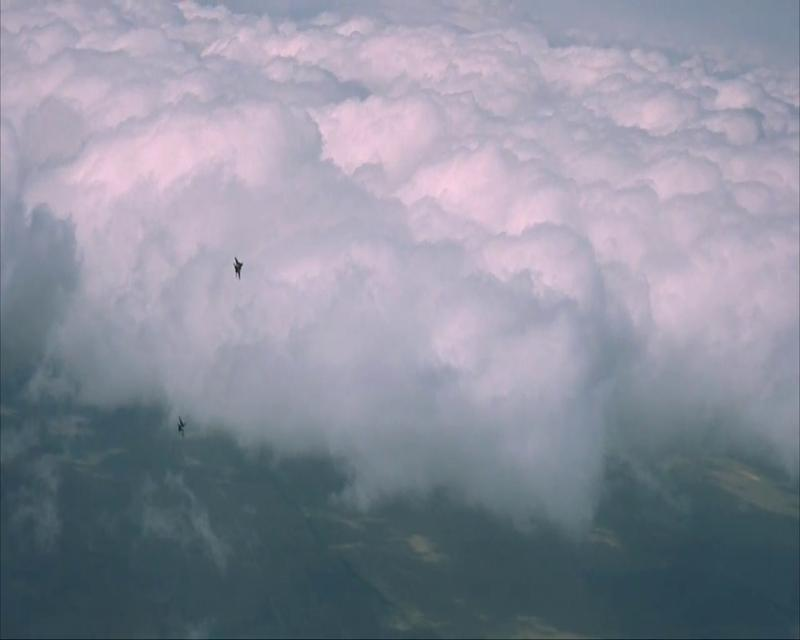UAV: (232, 255, 244, 280), (176, 415, 188, 440)
